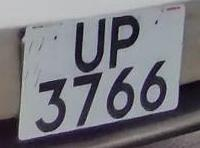3: (31, 67, 71, 138)
6: (138, 59, 173, 115), (105, 65, 139, 121)
7: (70, 71, 105, 130)
P: (107, 8, 141, 73)
U: (67, 13, 111, 78)
